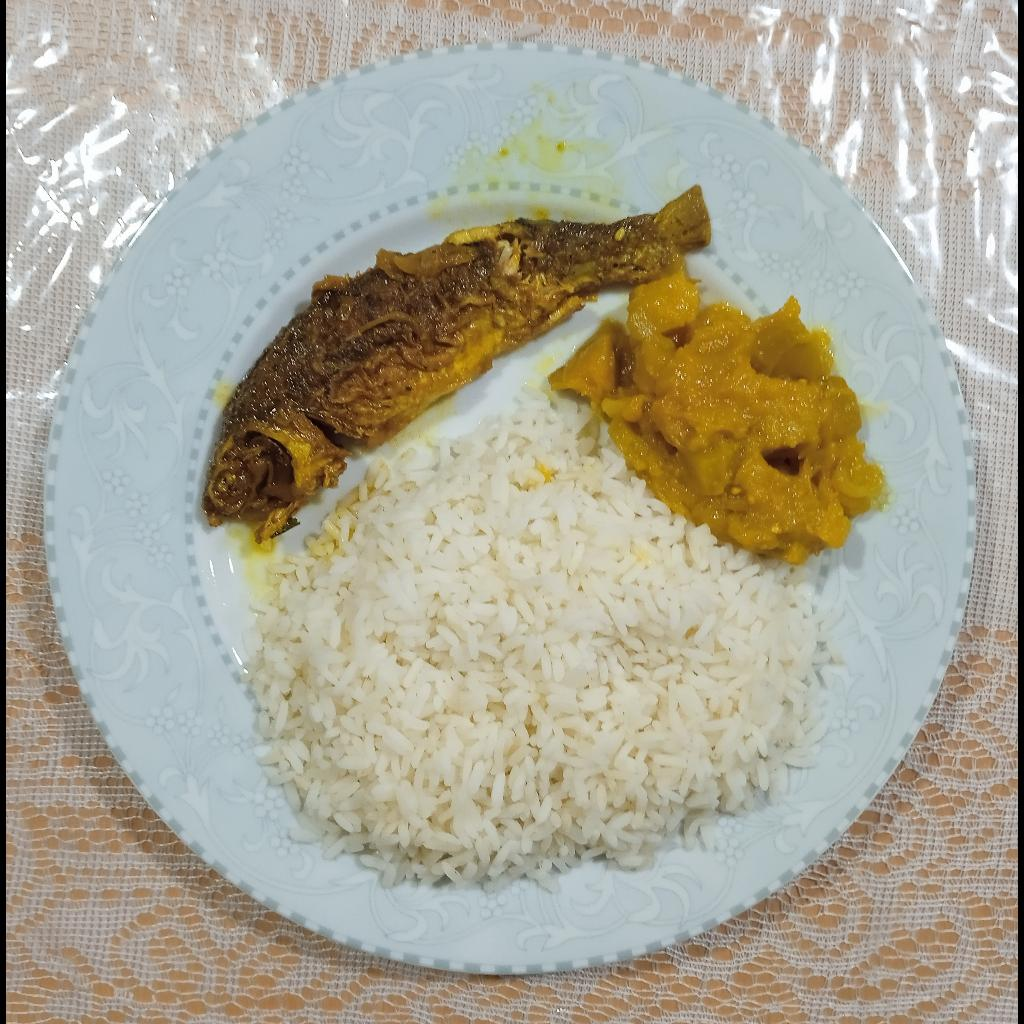fish: (199, 182, 712, 544)
kumra-vaji: (551, 273, 891, 563)
rice: (243, 388, 843, 896)
